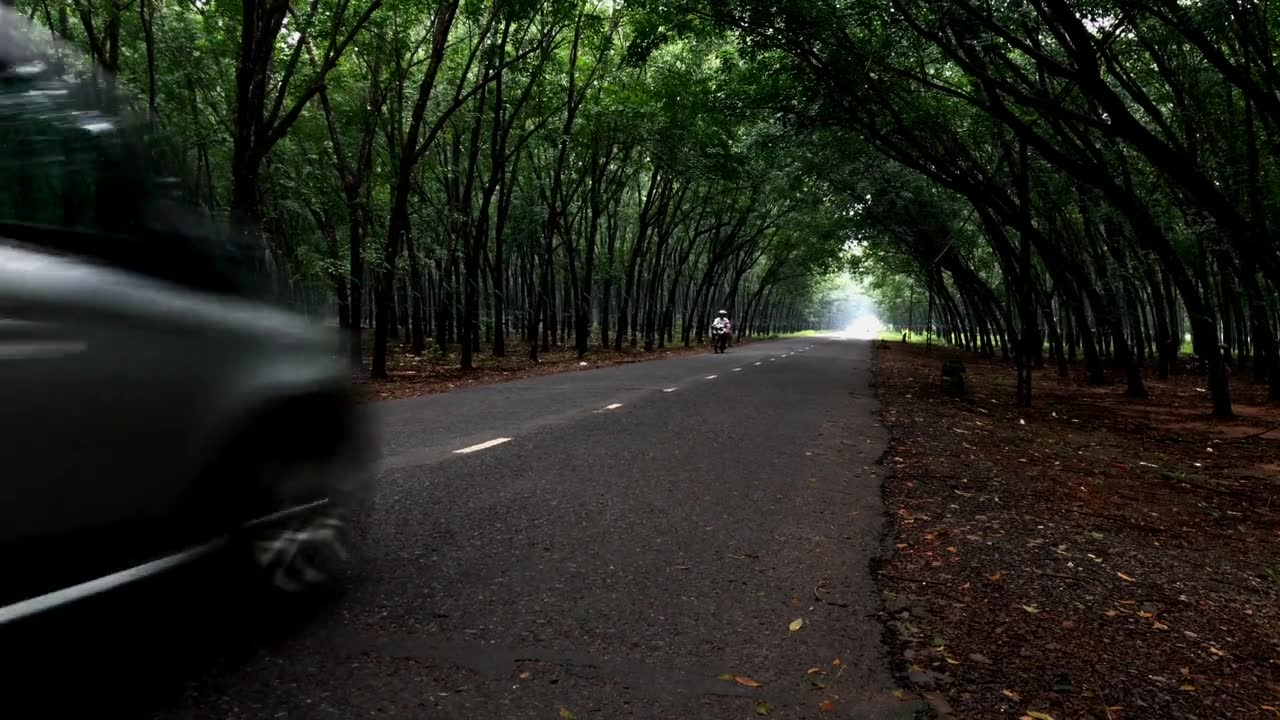car: (1, 13, 379, 657)
motorbicycle: (713, 306, 731, 354)
